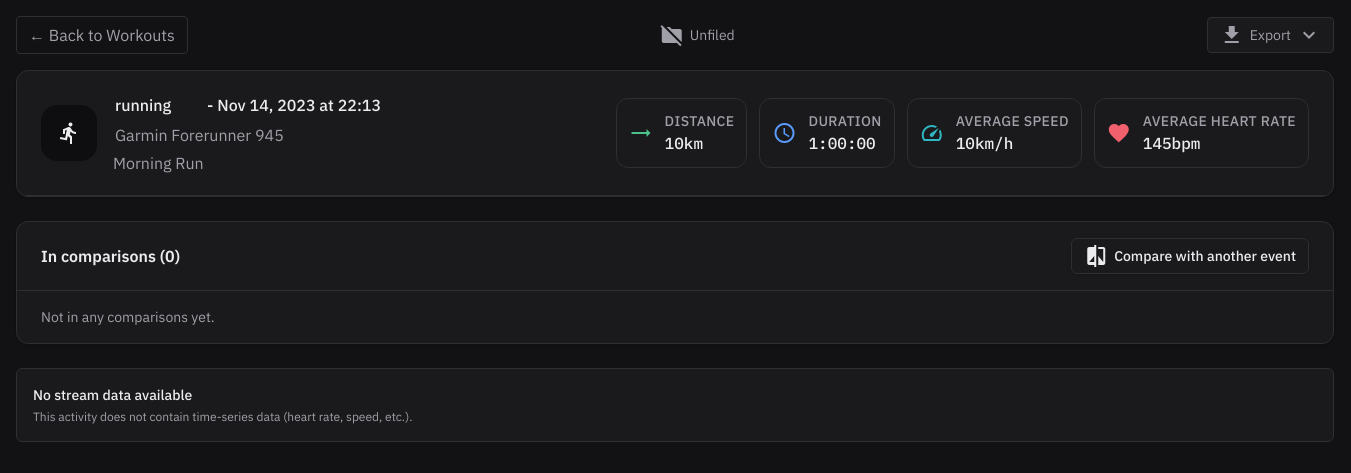
it: EventDetail › shows saveError when commit activity type fails
Expected: the text "running" is shown, x1=115 y1=93 x2=171 y2=117
Click the button "running": (157, 105) x1=113 y1=91 x2=201 y2=119
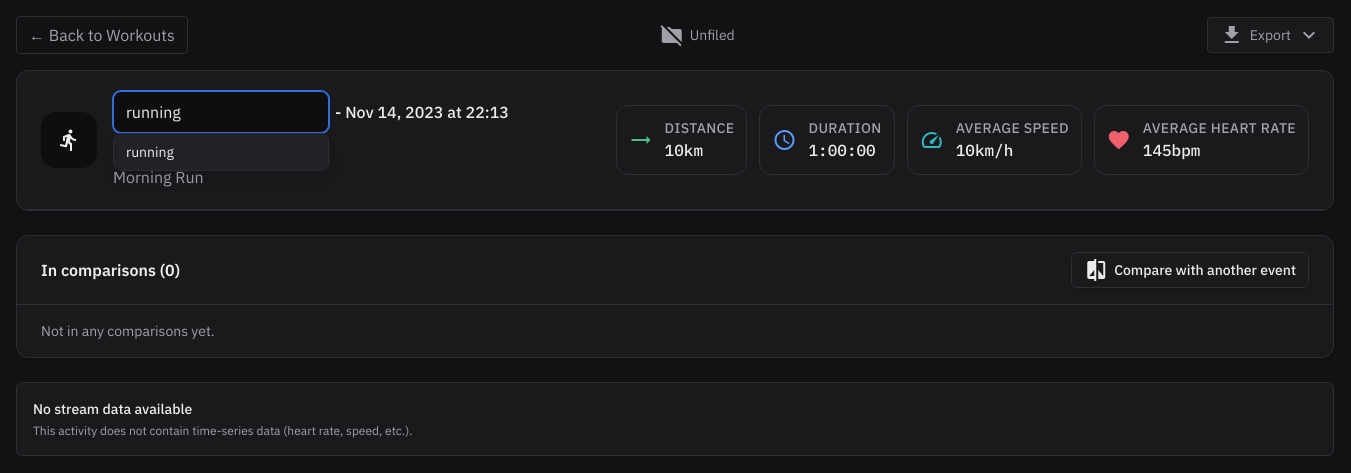
Result: the dropdown with placeholder "Activity type…" is shown
Replace the text in the dropdown with placeholder "Activity type…" with "cy": (221, 112) x1=113 y1=91 x2=329 y2=133
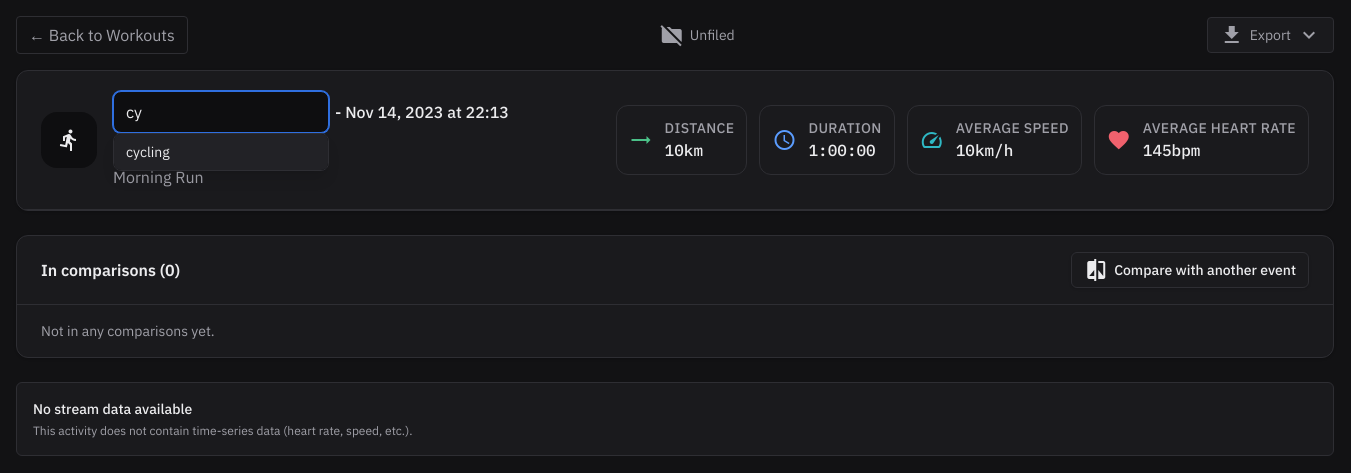
Result: the option "cycling" is shown
Click the option "cycling": (221, 152) x1=114 y1=134 x2=328 y2=170
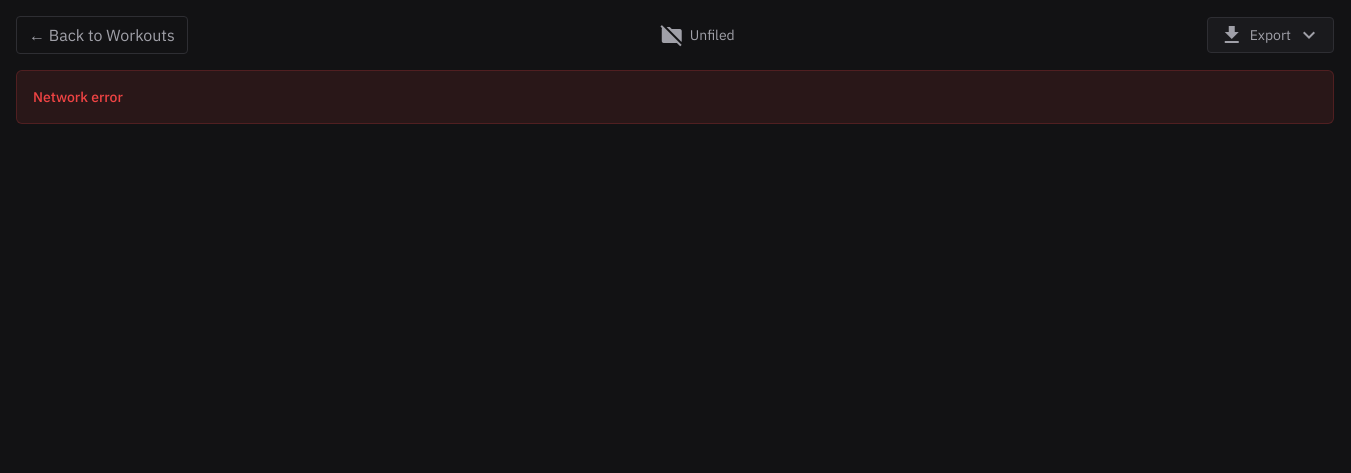
Result: the text "Network error" is shown at x1=33 y1=88 x2=123 y2=106
